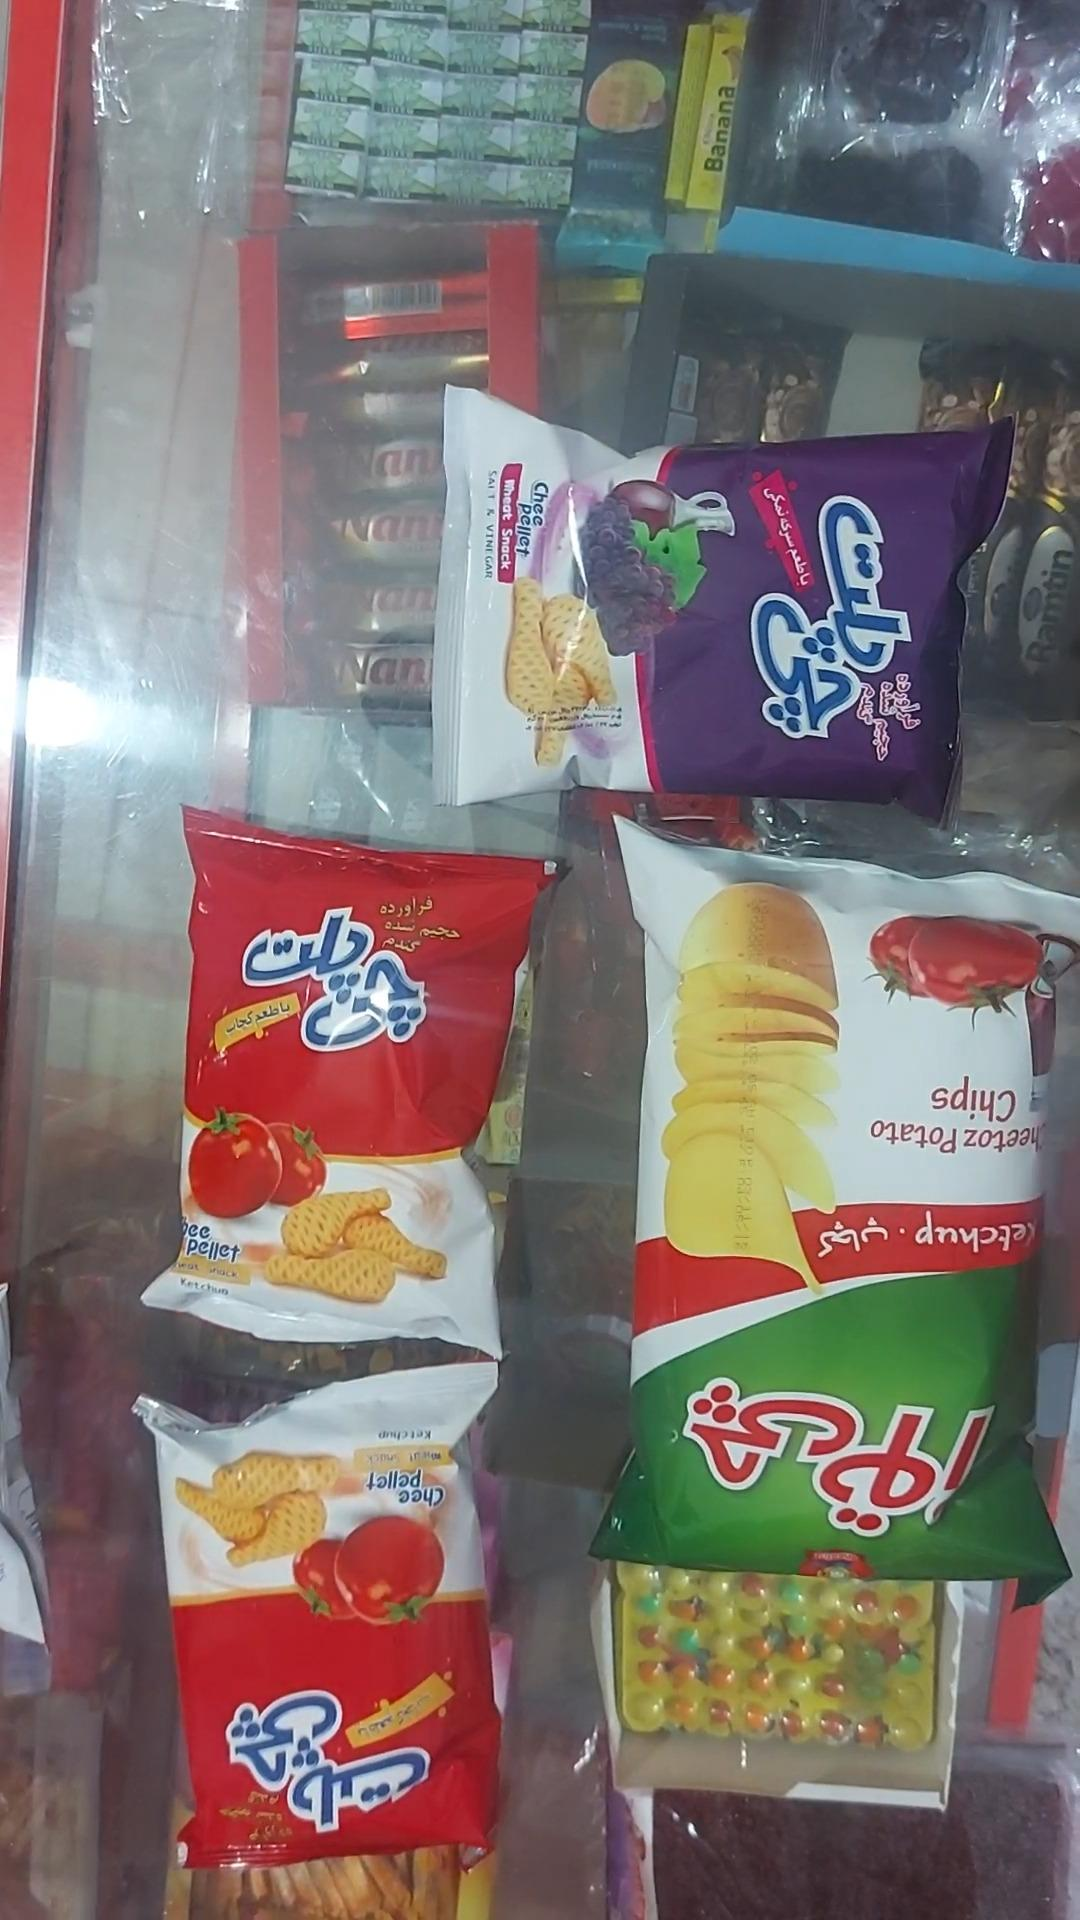Chee pellet ketchup: (588, 819, 1079, 1615), (141, 806, 559, 1364), (132, 1364, 501, 1871)
Chee pellet vinegar: (431, 386, 1013, 829)
